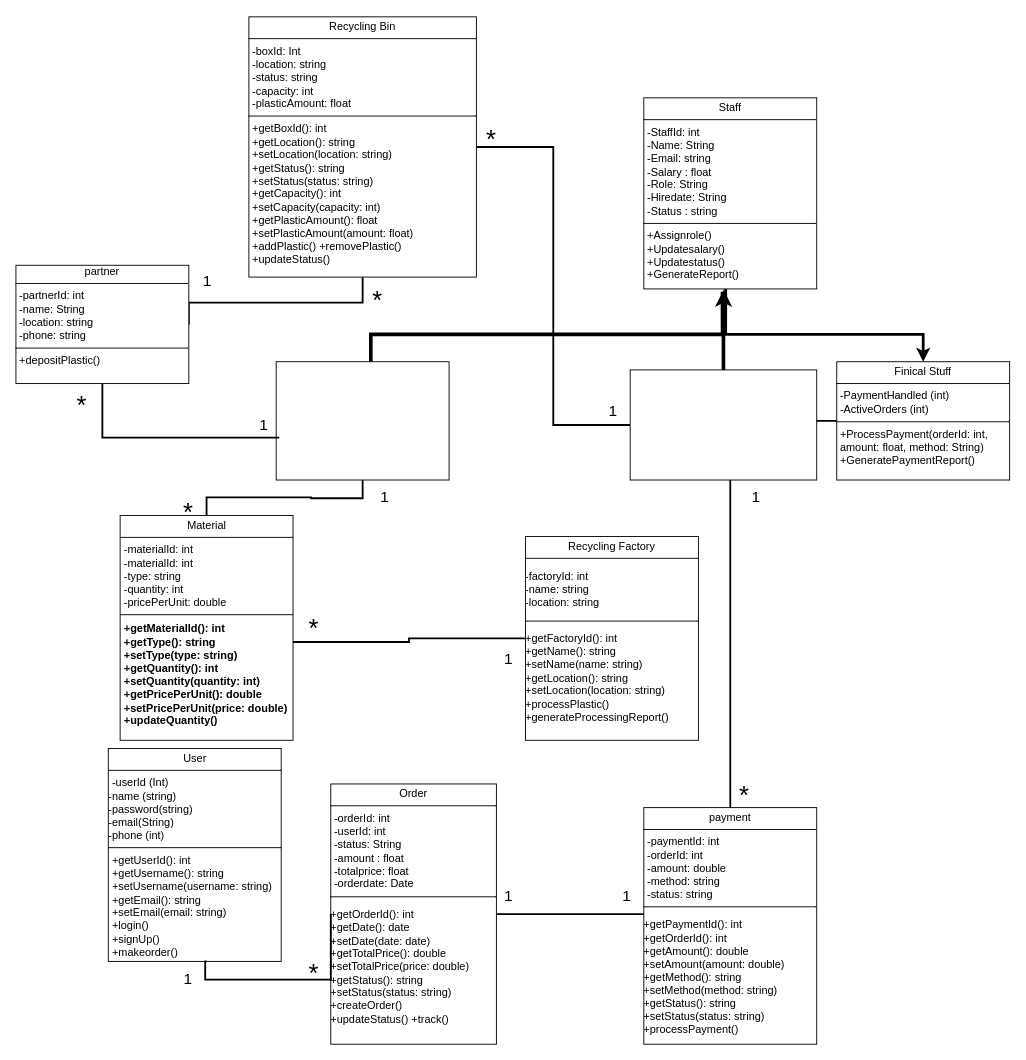
Image size: 1026x1060. Some labels were removed from this diagram. Here are the shapes that lost their labels. From the top down, the centre of each, then its label:
At (x=362, y=420): "Admin +manageBoxes() +generateReports() +registerPartners() +manageInventory()".
At (x=723, y=424): "Collection Staff -boxId (int) +emptyBoxes() +updateBoxStatus()".
